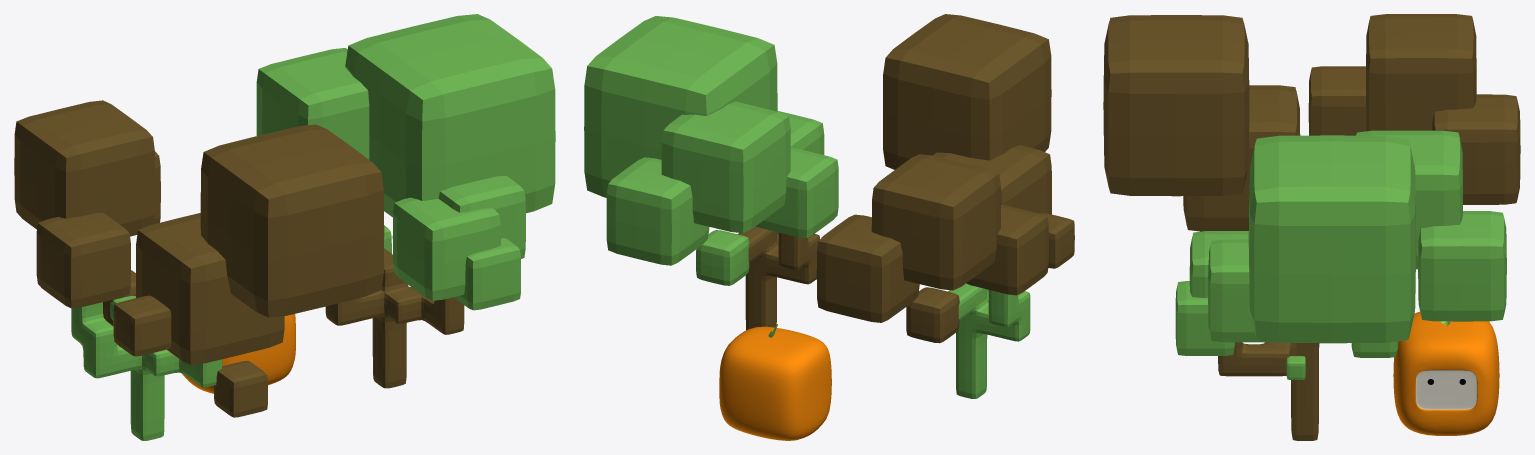
Rendered from asset_update_scale.fbx.
3 renders of one model, left to right at view 1: azimuth 30°, elevation 25°; view 2: azimuth 150°, elevation 25°; view 3: azimuth 270°, elevation 25°, orthographic. The views are drawn at different scales.
Parts seen in each view (by area): view 1: TREE, TREE.001, CHAR_1; view 2: TREE, TREE.001, CHAR_1; view 3: TREE.001, TREE, CHAR_1.
Part boxes in pixels (bbox=[...]): TREE: bbox=[14, 100, 384, 440]; TREE.001: bbox=[256, 14, 555, 388]; CHAR_1: bbox=[182, 314, 295, 393]; TREE: bbox=[816, 14, 1074, 398]; TREE.001: bbox=[584, 16, 838, 330]; CHAR_1: bbox=[719, 324, 831, 440]; TREE.001: bbox=[1175, 130, 1506, 440]; TREE: bbox=[1103, 14, 1520, 231]; CHAR_1: bbox=[1393, 311, 1499, 435].
Bounding box in the file's own units: 507 × 355 × 389.
